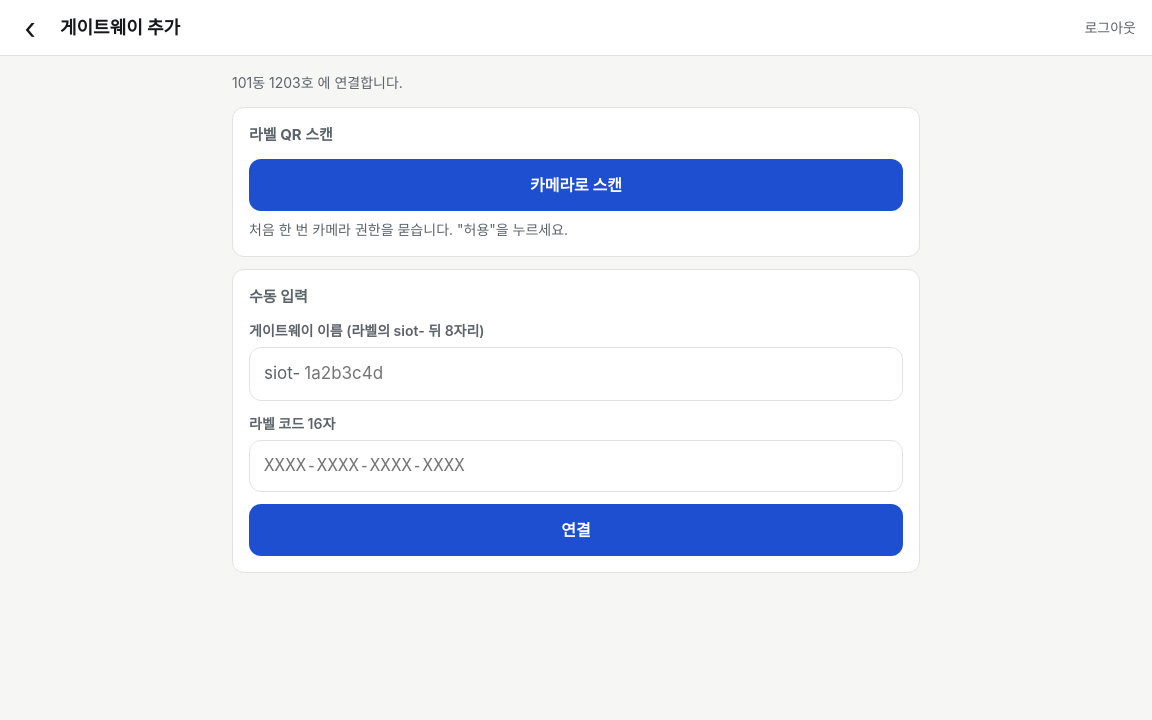
Test case: GW 바인딩 수동 입력과 오류 문구 (B2) › 형식이 틀리면 보내지 않는다
In the field labelled "게이트웨이 이름 (라벨의 siot- 뒤 8자리) siot-": {"x": 603, "y": 374} 304,348 -> 902,400, type "siot-3f9a2c7"
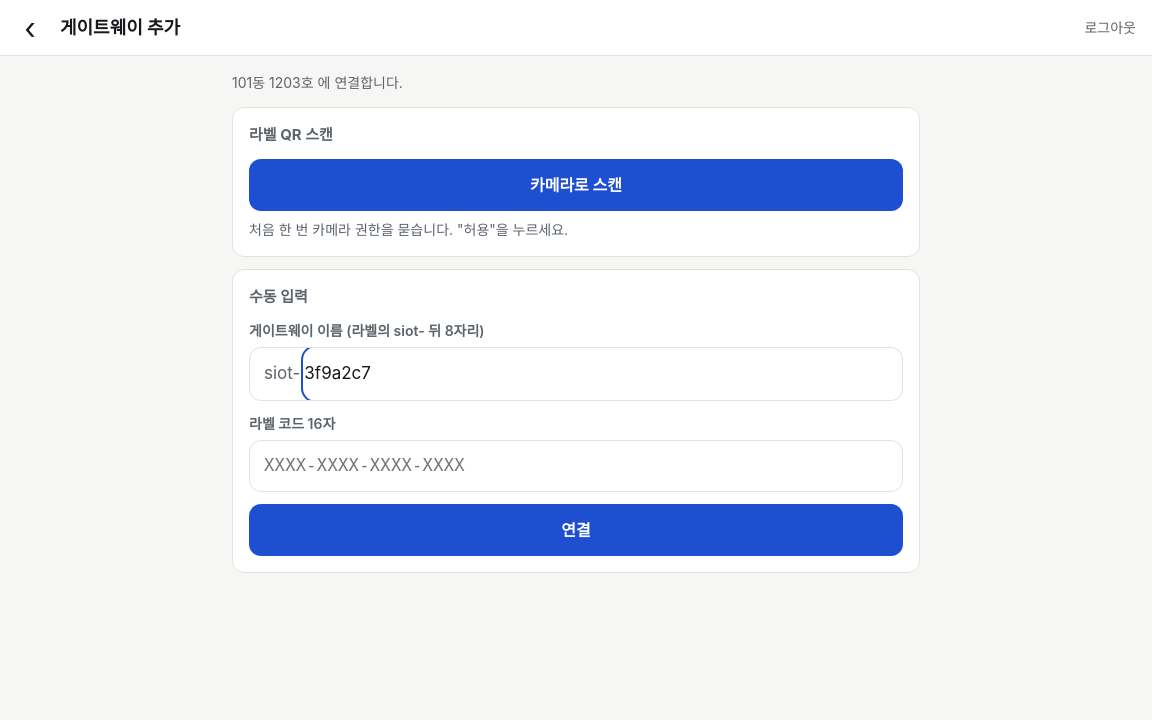
In the field labelled "라벨 코드 16자": {"x": 576, "y": 466} 249,440 -> 903,492, type "9C2E41AB"
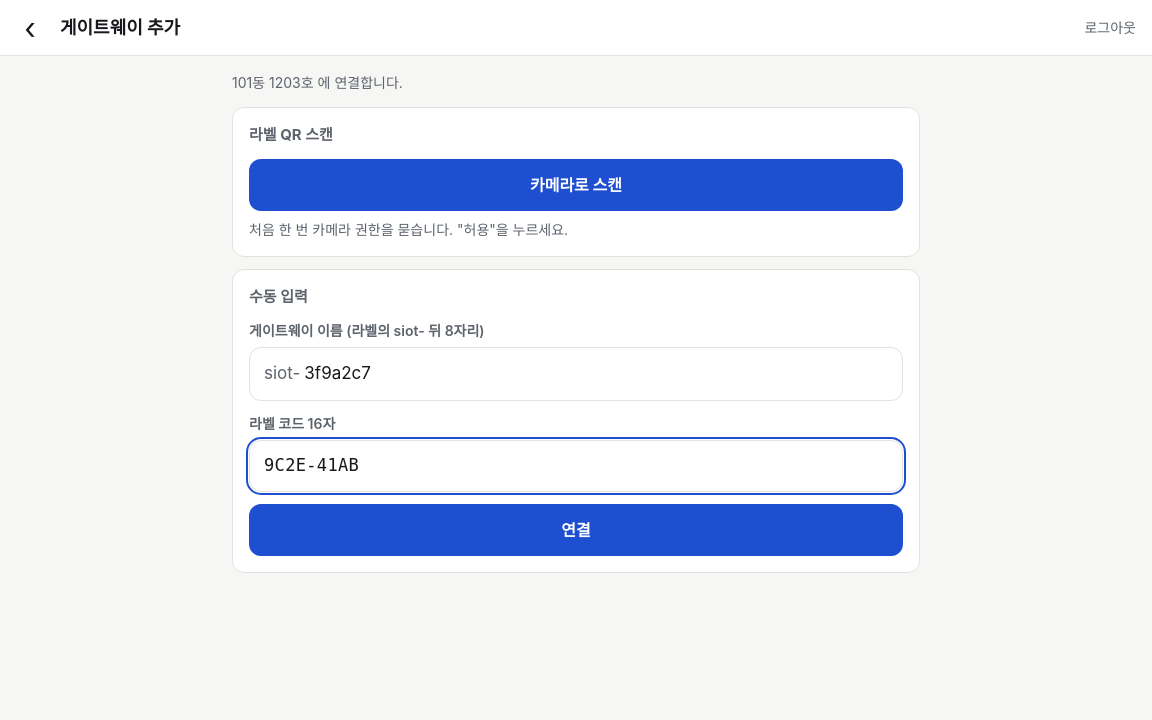
Click the button "연결": {"x": 576, "y": 530} 249,504 -> 903,556
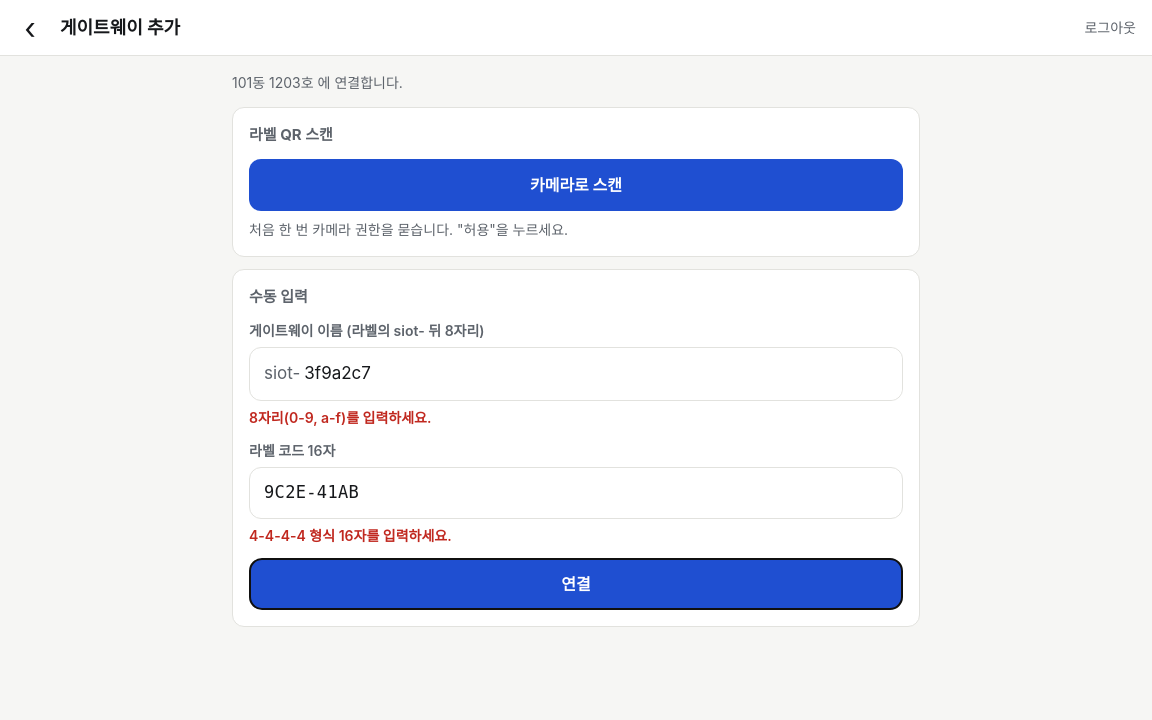
Expected: the text "8자리(0-9, a-f)를 입력하세요." is shown, 249,409 -> 432,426
Expected: the text "4-4-4-4 형식 16자를 입력하세요." is shown, 249,527 -> 452,544
